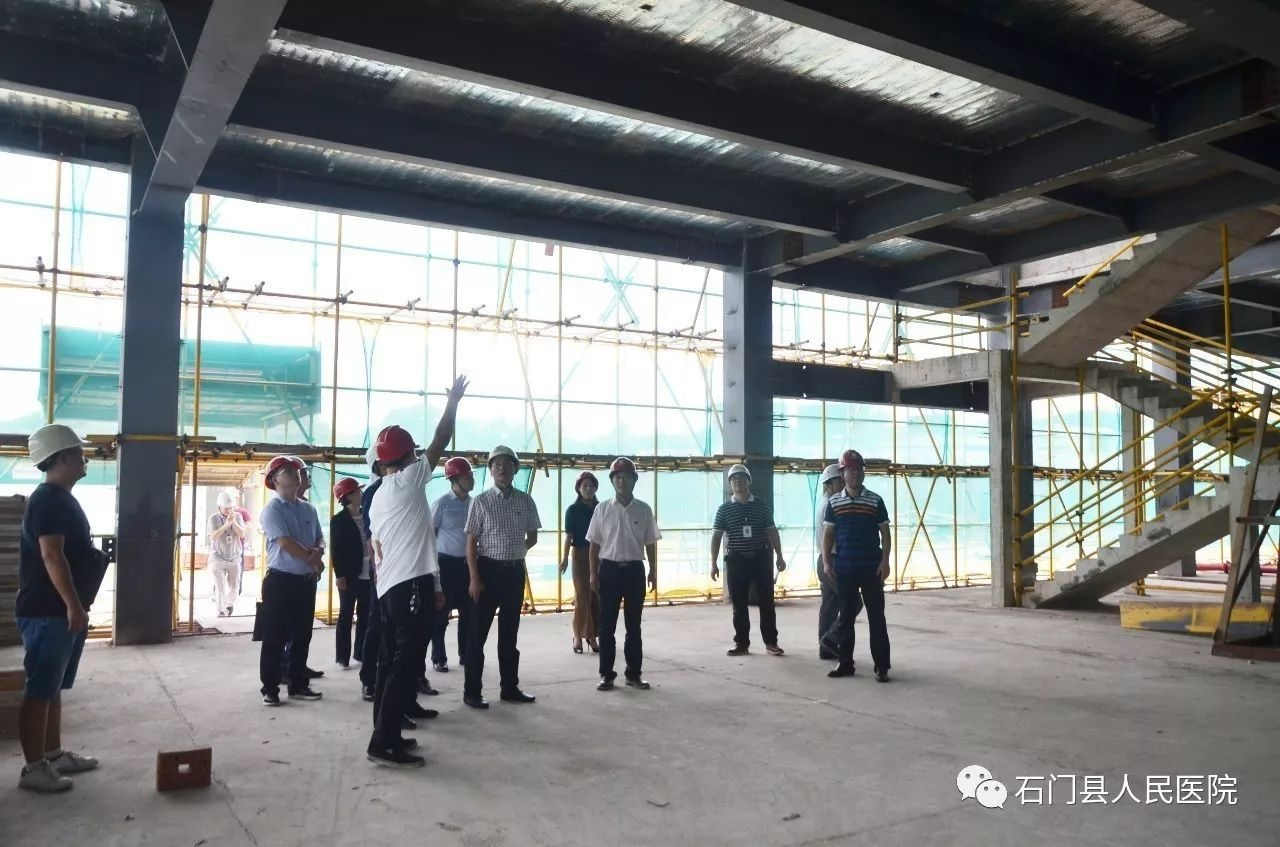red: (372, 421, 423, 472), (259, 452, 303, 498), (441, 454, 477, 496), (605, 457, 641, 496), (330, 472, 365, 510), (835, 450, 869, 488), (572, 471, 600, 503)
white: (23, 418, 95, 493), (486, 442, 520, 485), (814, 464, 847, 503), (722, 460, 754, 499), (215, 492, 234, 515)
